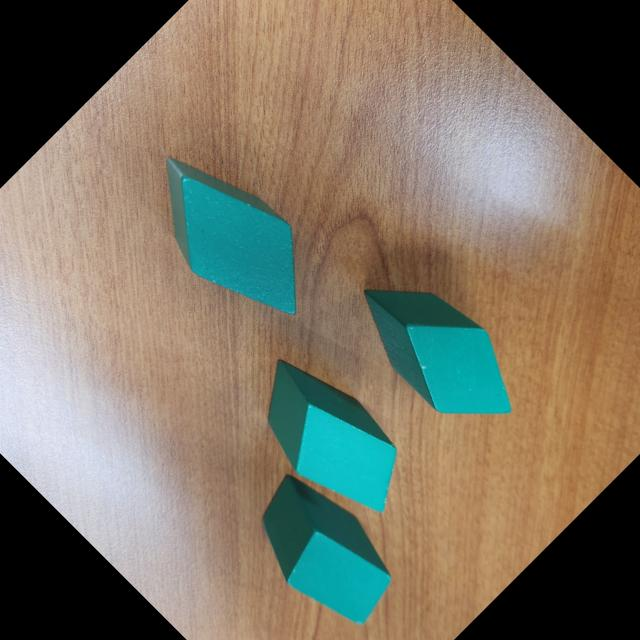green: (122, 129, 338, 345), (338, 247, 539, 448), (230, 339, 426, 535), (232, 458, 412, 640)
